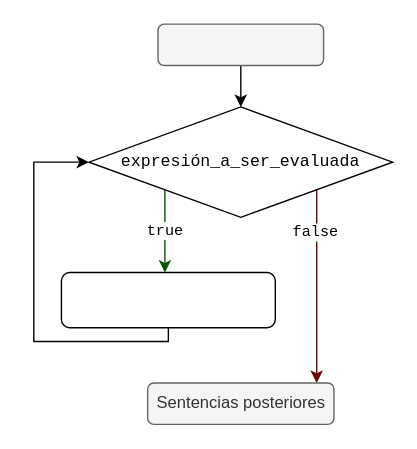
Image size: 417x449. Some labels were removed from this diagram. Here are the shapes that lost their labels. From the top down, the centre of each, then its label:
At pixel 240 44: "Sentencias previas".
At pixel 167 299: "bloque_mientras_true".
